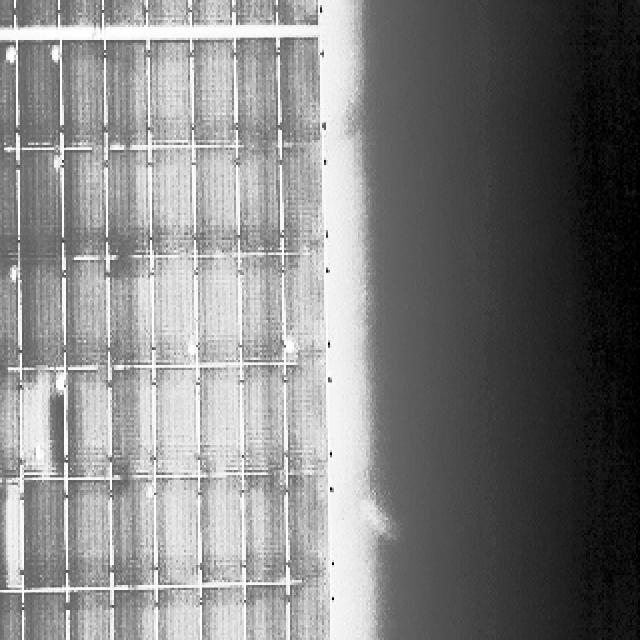Hotspots: (282, 334, 303, 360), (20, 445, 40, 471), (45, 374, 65, 400), (44, 44, 61, 68), (5, 262, 20, 286), (182, 339, 198, 360), (0, 45, 14, 65), (50, 154, 61, 174)
PV-modules: (19, 256, 66, 368), (240, 472, 286, 585), (63, 374, 110, 484), (151, 367, 198, 477), (20, 150, 67, 260), (58, 39, 104, 150), (153, 479, 199, 590), (151, 36, 197, 147), (190, 36, 236, 147), (198, 478, 244, 589), (104, 372, 150, 483), (192, 147, 238, 257), (155, 148, 201, 258), (284, 476, 330, 586), (64, 481, 110, 591), (24, 374, 69, 486), (60, 152, 106, 261), (241, 253, 287, 362), (108, 255, 153, 366), (243, 363, 288, 474), (111, 479, 156, 589), (283, 252, 328, 362), (106, 36, 150, 148), (18, 38, 63, 147), (154, 253, 198, 364), (284, 364, 328, 475), (24, 482, 68, 593), (106, 152, 152, 258), (198, 365, 242, 475), (278, 34, 322, 144), (236, 35, 280, 145), (280, 145, 324, 254), (63, 261, 107, 370), (196, 254, 240, 363), (238, 148, 282, 255), (0, 592, 64, 640), (0, 482, 24, 592), (244, 585, 290, 640), (285, 585, 331, 640), (112, 590, 160, 640), (154, 588, 200, 640), (65, 591, 111, 640), (0, 368, 20, 480), (198, 587, 240, 640), (0, 260, 20, 370), (25, 594, 69, 640), (0, 148, 18, 258), (0, 37, 18, 145), (146, 0, 200, 28), (12, 0, 56, 32), (274, 0, 318, 32), (98, 0, 144, 30), (56, 0, 100, 28), (0, 592, 22, 640), (186, 0, 232, 22), (234, 0, 278, 22), (0, 0, 10, 28)
